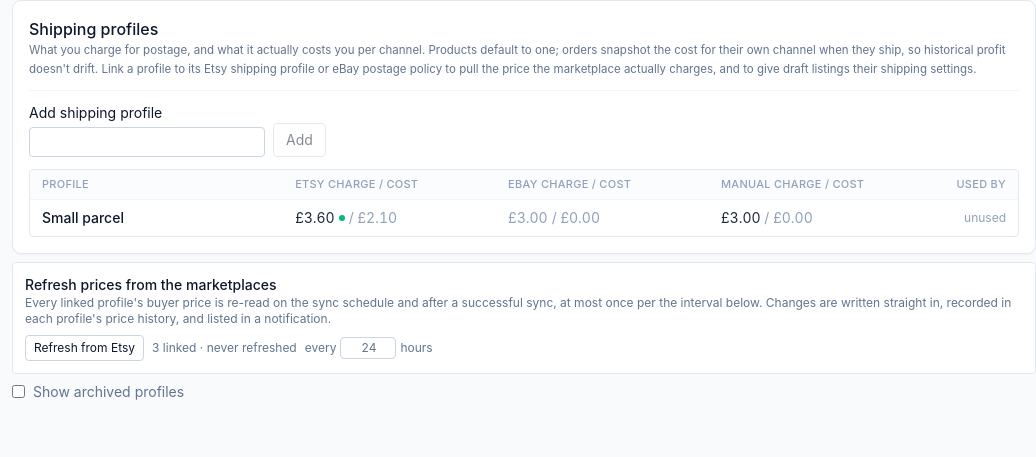
Scenario: shows a read failure as nothing changed rather than as a crash
The image size is (1036, 457).
Step 1. Click the button "Refresh from Etsy" → coordinates (84, 348), box [25,335,144,361]
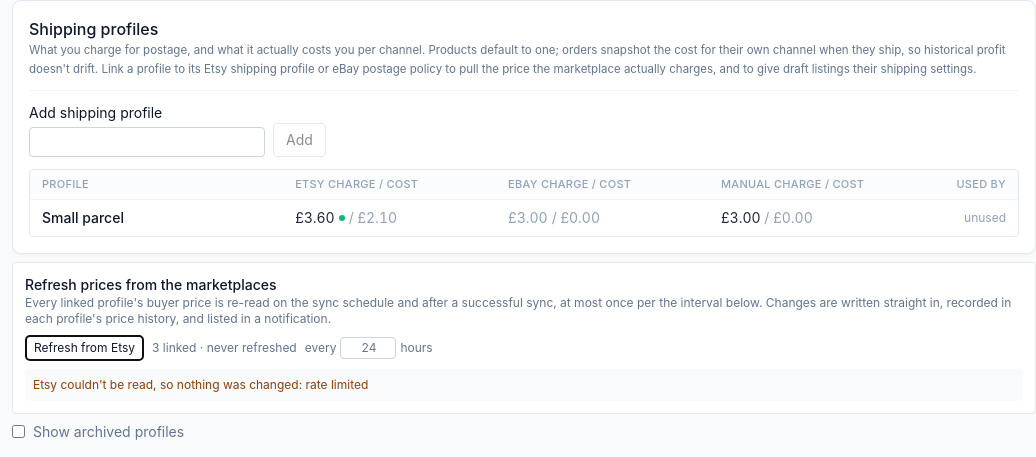
Now the text "Etsy couldn't be read, so nothing was changed: rate limited" is shown, box [33,377,368,392]
